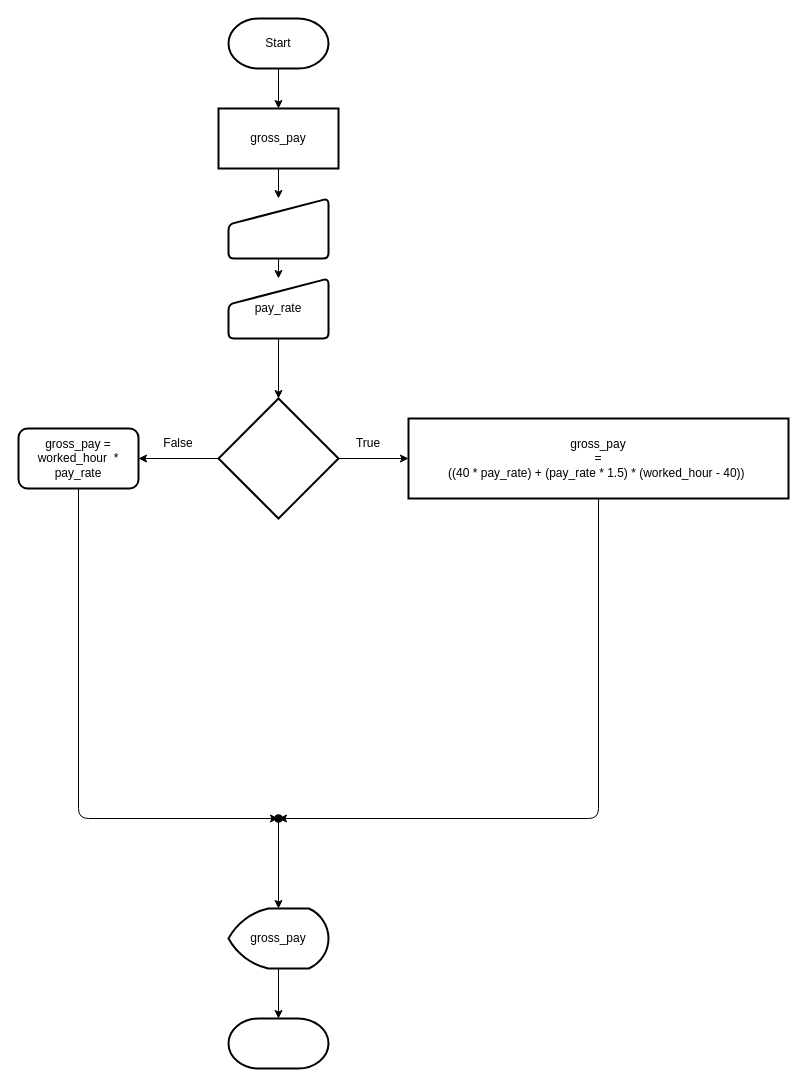
The diagram is 806 pixels wide and 1086 high, and some of its shapes have lost their labels. The shapes that lost their labels are listed below. From the top down, each one's centre as x and y in pixels, then its label:
At (x=278, y=228): "worked_hour".
At (x=278, y=458): "worked_hour > 40".
At (x=278, y=1043): "End".
